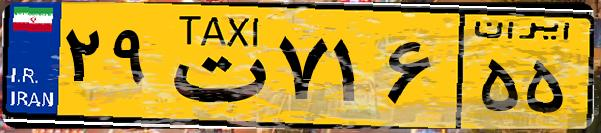1: (330, 28, 385, 110)
2: (57, 26, 110, 100)
5: (475, 38, 525, 113), (525, 38, 570, 115)
6: (385, 28, 445, 110)
7: (270, 28, 330, 110)
9: (110, 28, 158, 98)
ت: (158, 12, 270, 120)
